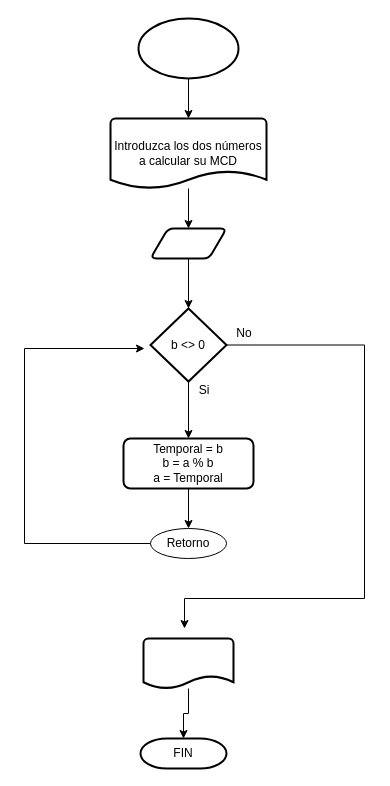
Image size: 390x786. Some labels were removed from this diagram. Here are the shapes that lost their labels. From the top down, the box of each, then its label:
(137, 17, 239, 79): Inicio
(149, 227, 227, 259): a,b
(142, 637, 234, 689): Devuelve a
